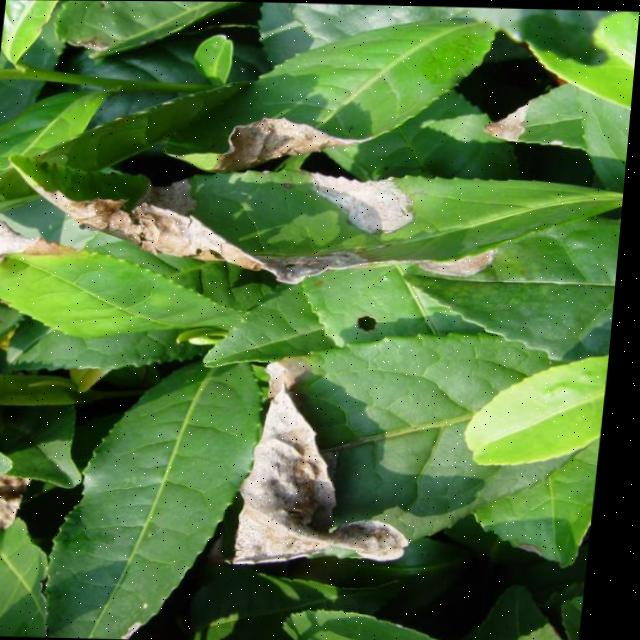Tea cloud leaf blight: (218, 337, 404, 564), (52, 207, 455, 278), (178, 114, 364, 167), (302, 165, 423, 228)
